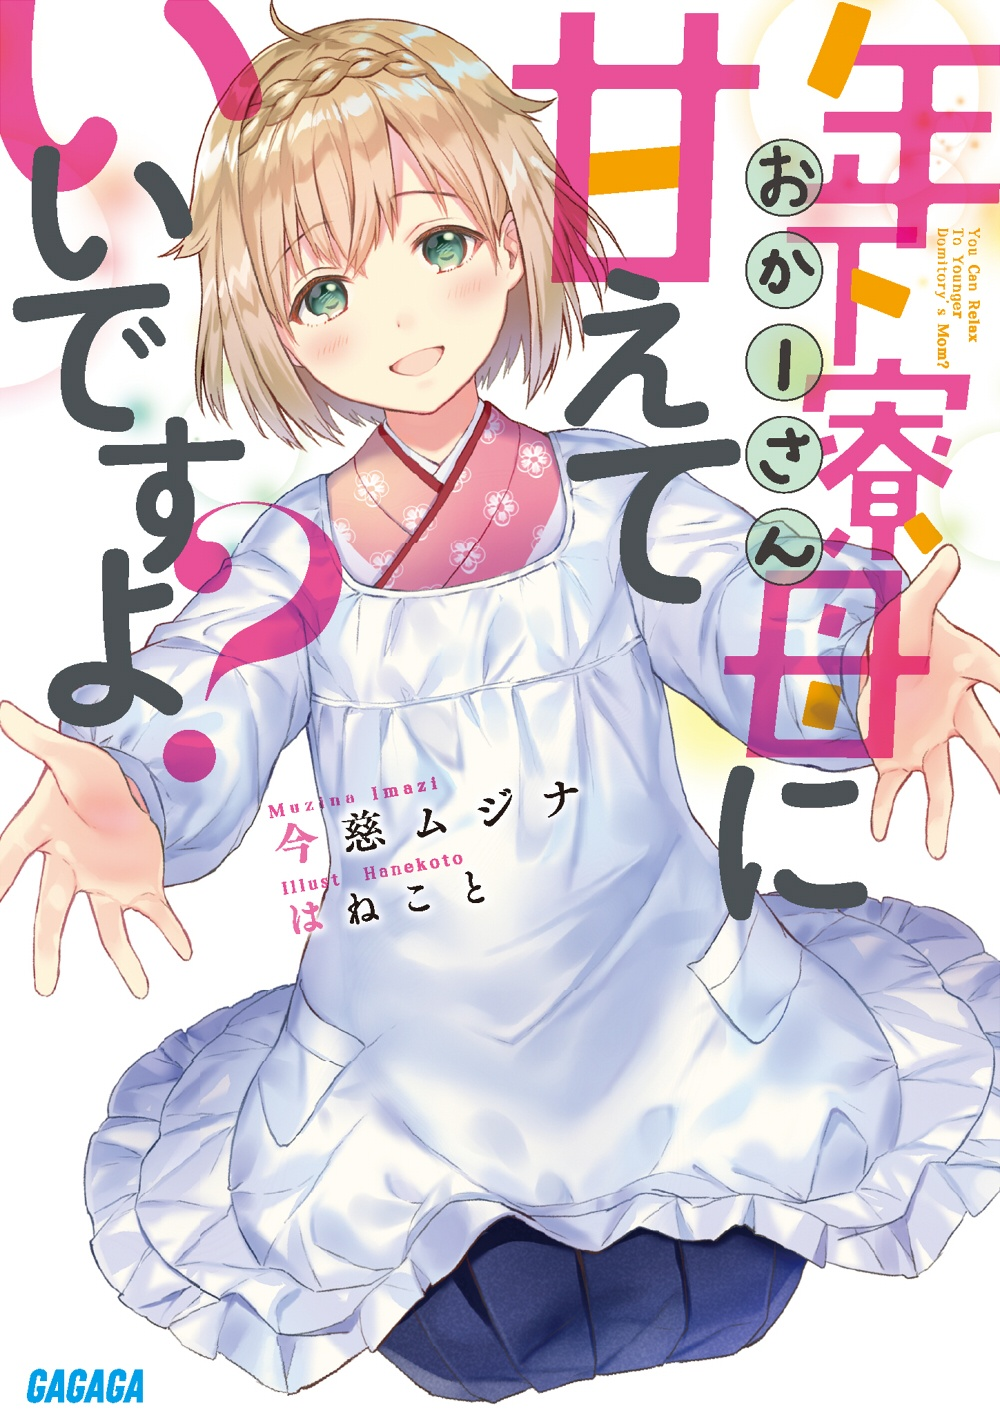纸片人正脸: (186, 6, 569, 430)
